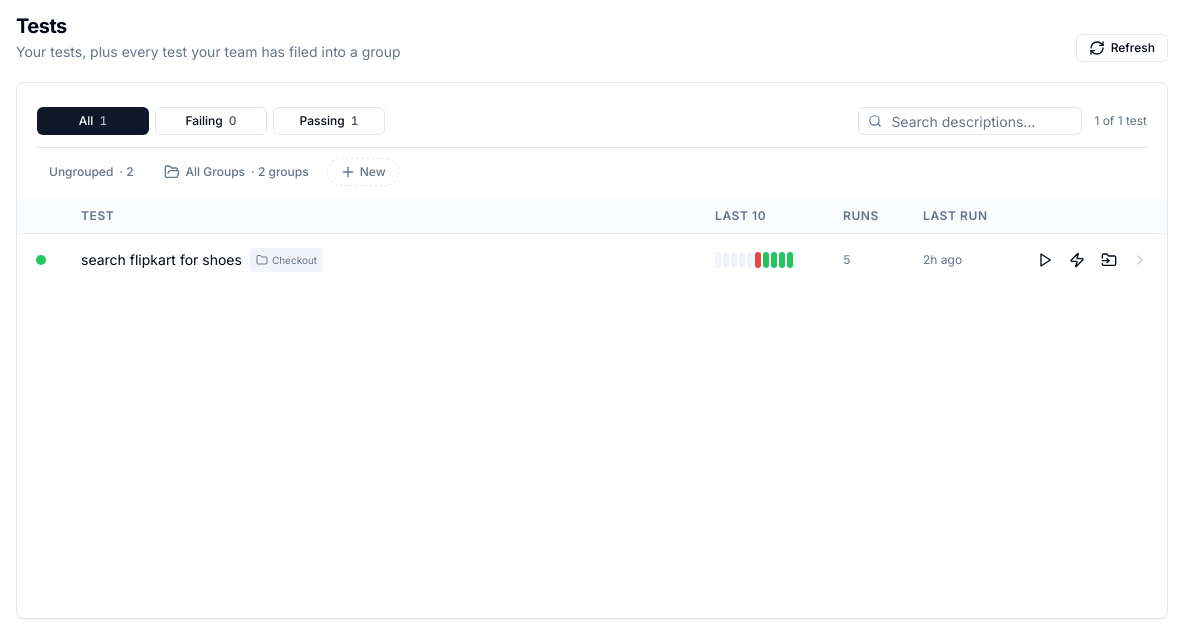
Test: TestsPage — the empty state › does not tell a caller WITH tests that they have none when a tab is empty
Check: the button "search flipkart for shoes" is shown, box [81,250,242,270]
Click the button "Failing 0": (211,121) [155,107,267,135]
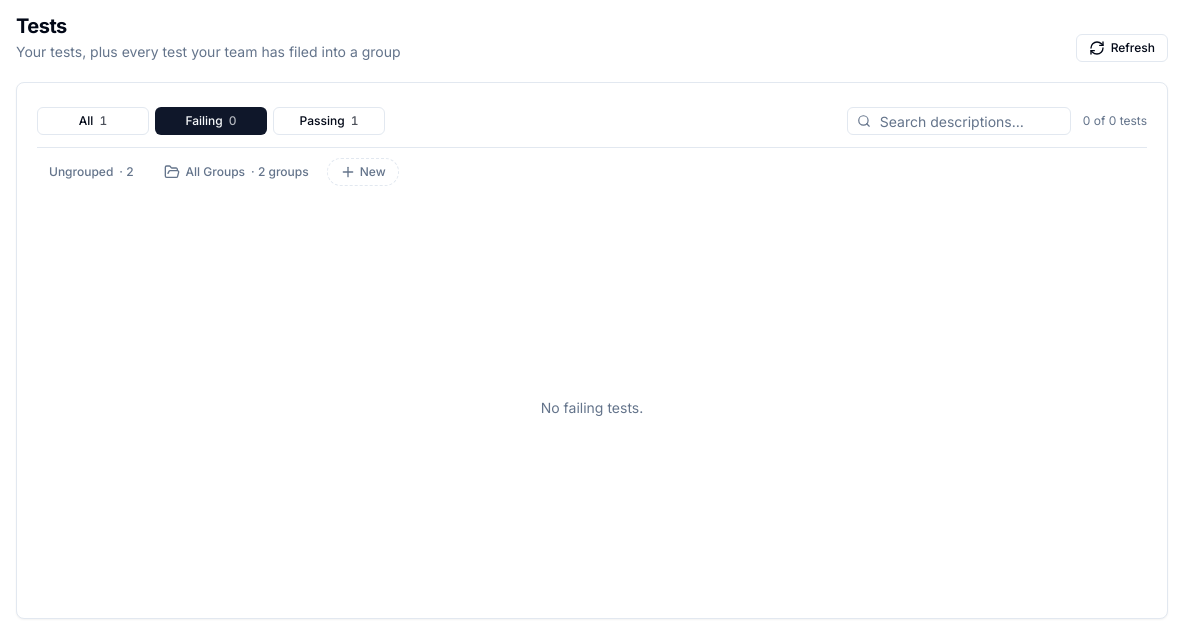
Check: the text "No failing tests." is shown, box [541,399,643,416]
